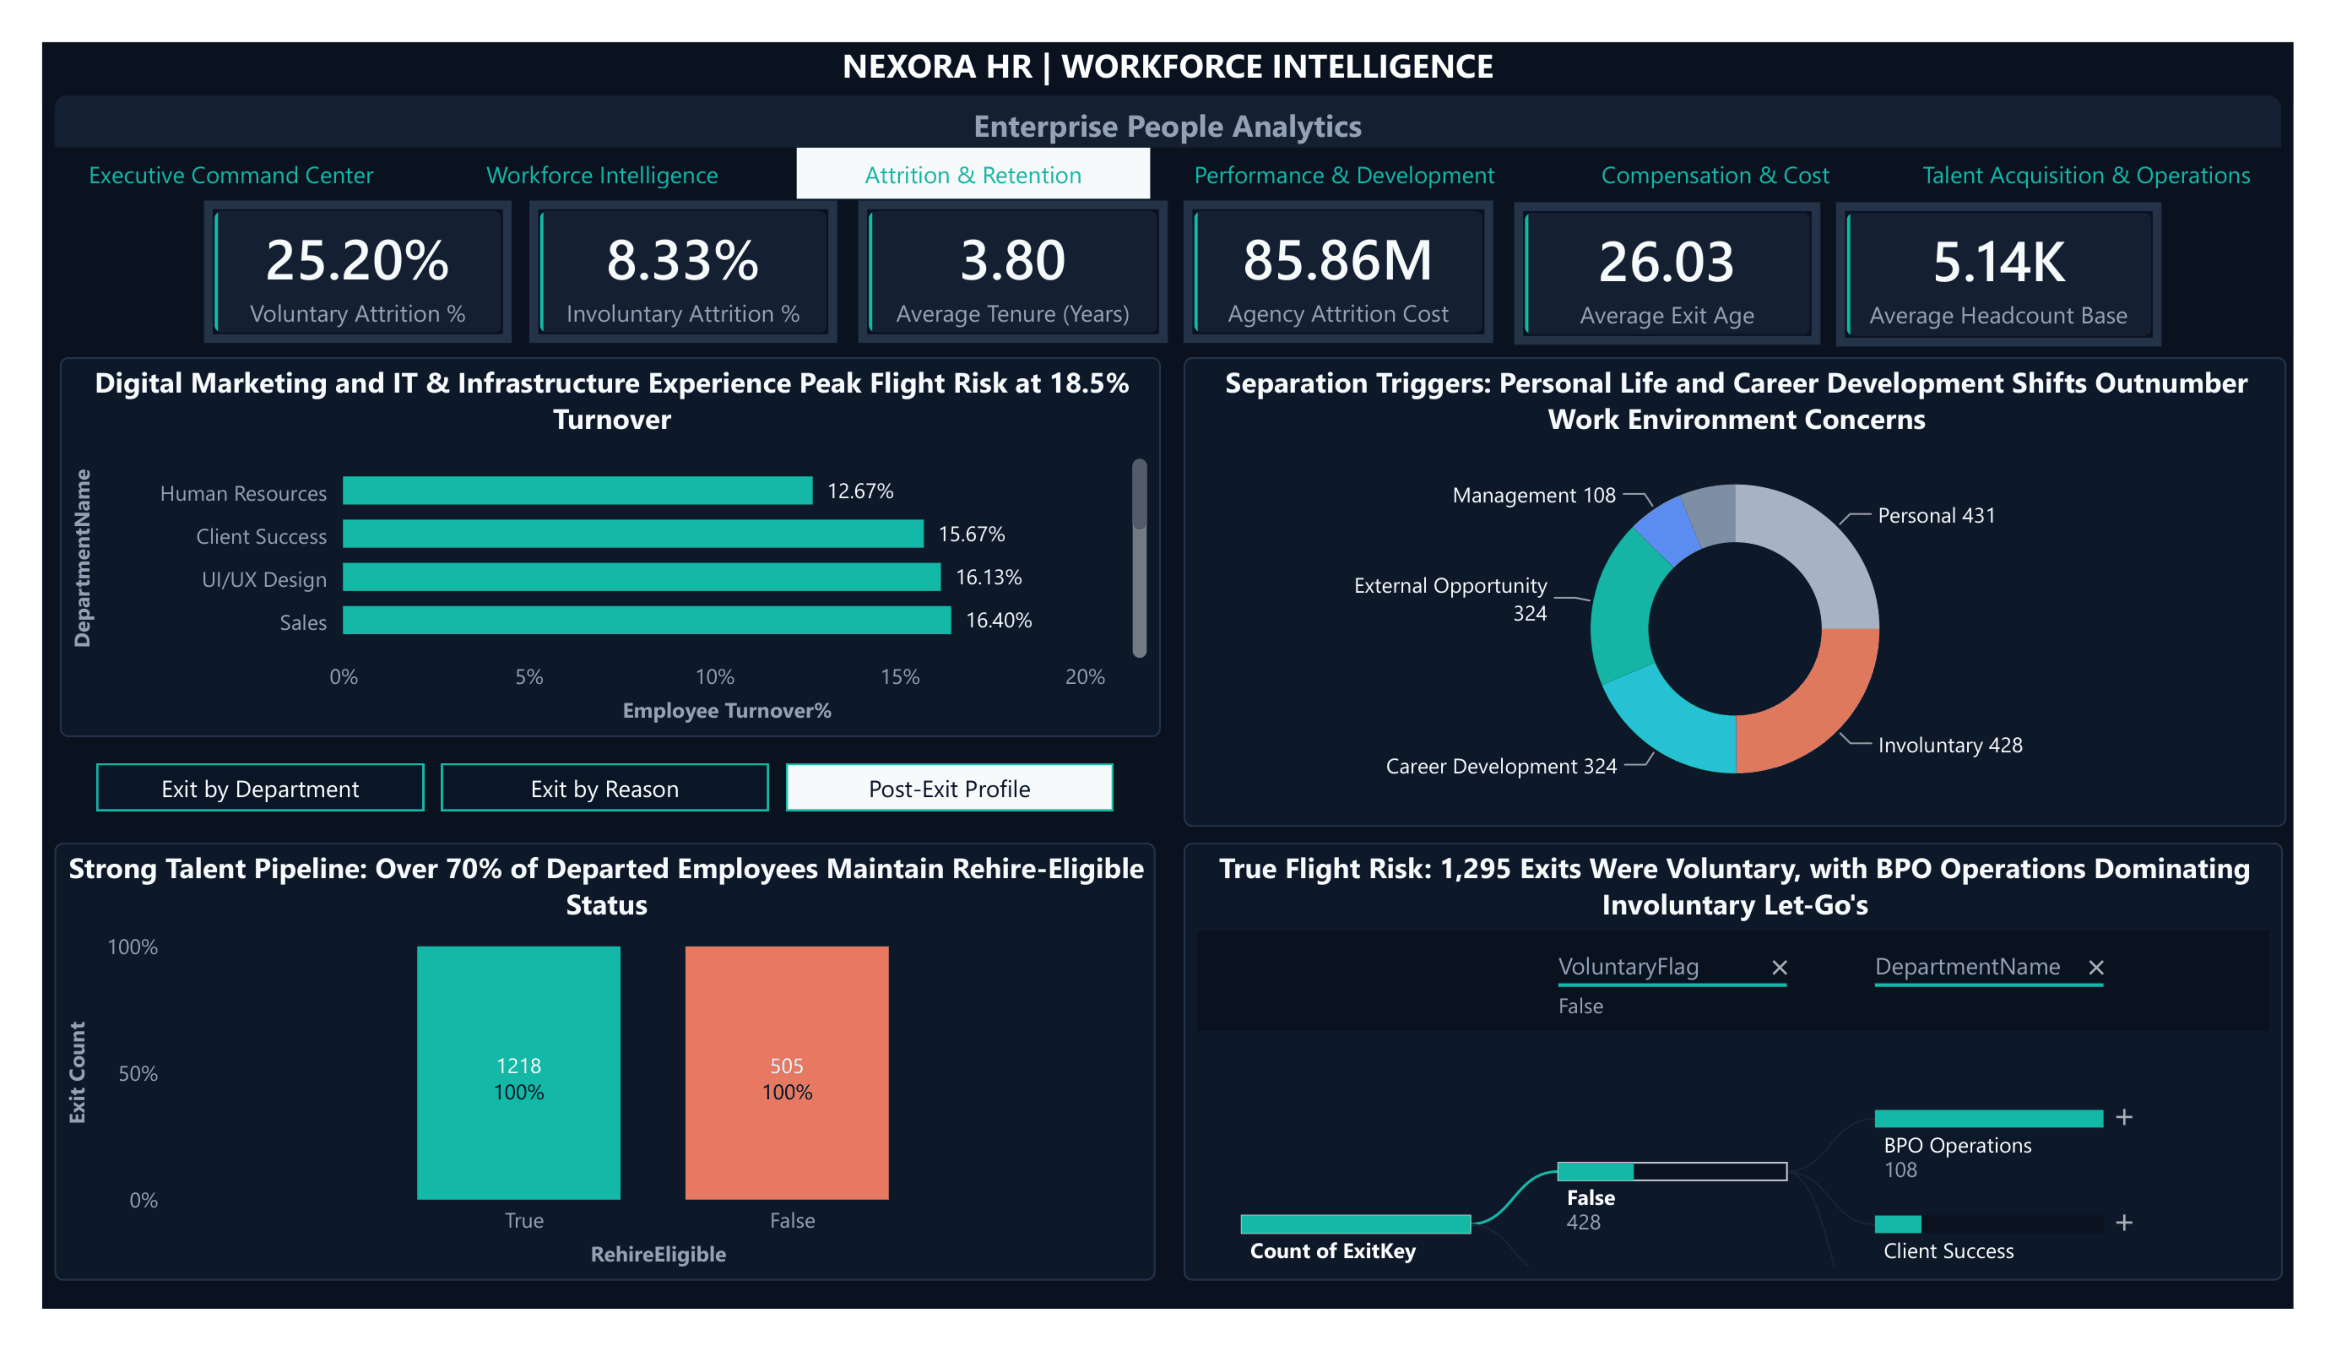

This screenshot's page, from the dashboard's own definition file:
{"tool":"powerbi","page":{"name":"Attrition & Retention","canvas":[1280,720],"ordinal":2},"visuals":[{"type":"shape","title":"NEXORA HR | WORKFORCE INTELLIGENCE","box":[7.1,0,1265.7,60],"z":0},{"type":"pageNavigator","box":[7.1,59.5,1255.7,29.8],"z":1000},{"type":"hundredPercentStackedColumnChart","title":"Strong Talent Pipeline: Over 70% of Departed Employees Maintain Rehire-Eligible Status","fields":{"Y":["_Measures.Exit Count"],"Category":["FactExit.RehireEligible"]},"box":[7.1,455.4,626.2,248.9],"z":1000,"group":"g1"},{"type":"cardVisual","fields":{"Data":["_Measures.Voluntary Attrition %"]},"box":[92.5,90.5,175,80.8],"z":2000},{"type":"cardVisual","fields":{"Data":["_Measures.Involuntary Attrition %"]},"box":[276.7,90.5,175.7,80.8],"z":3000},{"type":"cardVisual","fields":{"Data":["_Measures.Average Tenure (Years)"]},"box":[463.8,90.5,175.7,80.8],"z":4000},{"type":"cardVisual","fields":{"Data":["_Measures.Agency Attrition Cost"]},"box":[649.5,90.5,175.7,80.8],"z":5000},{"type":"cardVisual","fields":{"Data":["_Measures.Average Exit Age"]},"box":[836.5,91,174.8,81.2],"z":6000},{"type":"cardVisual","fields":{"Data":["_Measures.Average Headcount Base"]},"box":[1020.5,90.7,184.3,82.2],"z":7000},{"type":"clusteredBarChart","title":"Digital Marketing and IT & Infrastructure Experience Peak Flight Risk at 18.5% Turnover","fields":{"Category":["DimDepartment.DepartmentName"],"Y":["_Measures.Employee Turnover%"]},"box":[9.9,178.6,626.5,216.9],"z":8000},{"type":"donutChart","title":"Separation Triggers: Personal Life and Career Development Shifts Outnumber Work Environment Concerns","fields":{"Y":["_Measures.Exit Count"],"Category":["DimExitReason.ExitCategory"]},"box":[649.1,178.6,626.5,267.9],"z":9000},{"type":"bookmarkNavigator","box":[31.2,409.6,578.3,26.9],"z":10000},{"type":"group","id":"g1","title":"P3_ButtonPanel","box":[7.1,455,627.9,249.4],"z":11000},{"type":"decompositionTreeVisual","title":"True Flight Risk: 1,295 Exits Were Voluntary, with BPO Operations Dominating Involuntary Let-Go''s","fields":{"Analyze":["CountNonNull(FactExit.ExitKey)"],"ExplainBy":["DimExitReason.VoluntaryFlag","DimDepartment.DepartmentName","DimExitReason.ExitReason"]},"box":[649.1,455,625,249.4],"z":12000}]}

Visuals, with their boxes in screenshot pixels (x1, y1, x2, y2), scaled from the page's 1280x720 canvas onto the 2336x1351 screenshot:
"NEXORA HR | WORKFORCE INTELLIGENCE" shape: 13,0,2323,113
pageNavigator: 13,112,2305,168
"Strong Talent Pipeline: Over 70% of Departed Employees Maintain Rehire-Eligible Status" hundredPercentStackedColumnChart: 13,855,1156,1322
cardVisual - _Measures.Voluntary Attrition %: 169,170,488,321
cardVisual - _Measures.Involuntary Attrition %: 505,170,826,321
cardVisual - _Measures.Average Tenure (Years): 846,170,1167,321
cardVisual - _Measures.Agency Attrition Cost: 1185,170,1506,321
cardVisual - _Measures.Average Exit Age: 1527,171,1846,323
cardVisual - _Measures.Average Headcount Base: 1862,170,2199,324
"Digital Marketing and IT & Infrastructure Experience Peak Flight Risk at 18.5% Turnover" clusteredBarChart: 18,335,1161,742
"Separation Triggers: Personal Life and Career Development Shifts Outnumber Work Environment Concerns" donutChart: 1185,335,2328,838
bookmarkNavigator: 57,769,1112,819
"P3_ButtonPanel" group: 13,854,1159,1322
"True Flight Risk: 1,295 Exits Were Voluntary, with BPO Operations Dominating Involuntary Let-Go''s" decompositionTreeVisual: 1185,854,2325,1322
